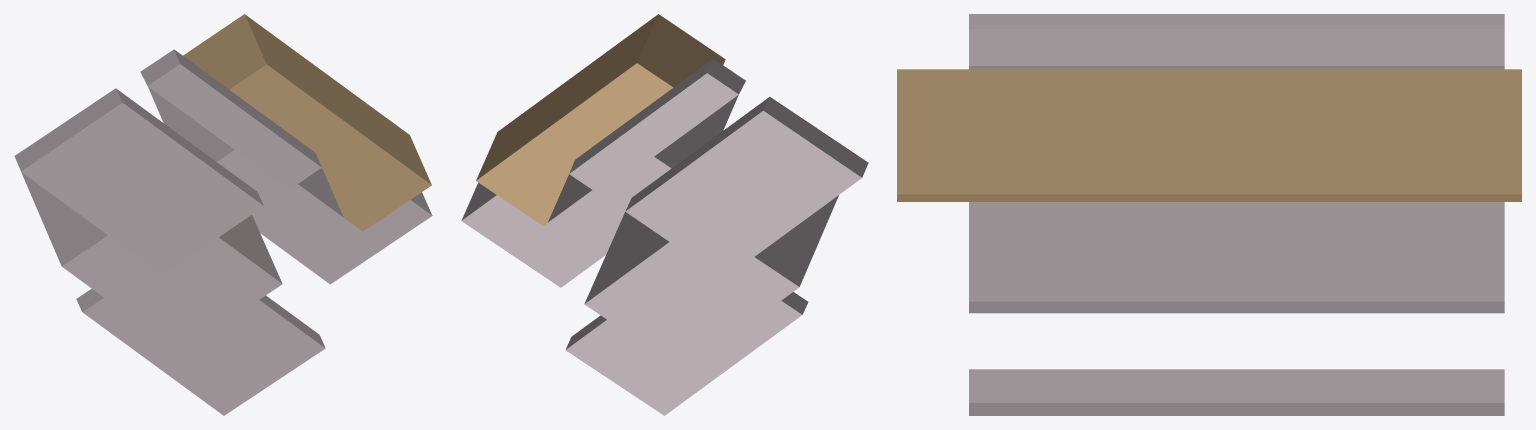
The picture shows the model from 3 angles, left to right: view 1: azimuth 30°, elevation 25°; view 2: azimuth 150°, elevation 25°; view 3: azimuth 270°, elevation 25°; orthographic projection. The views are drawn at different scales.
Parts seen in each view (by area): view 1: 0_2_2_3_0_0_0_3_0_1; view 2: 0_2_2_3_0_0_0_3_0_1; view 3: 0_2_2_3_0_0_0_3_0_1.
Boxes of the visible parts, x1,y1,x2,y2 form: 0_2_2_3_0_0_0_3_0_1: (14, 14, 432, 415); 0_2_2_3_0_0_0_3_0_1: (461, 14, 868, 415); 0_2_2_3_0_0_0_3_0_1: (897, 14, 1521, 415).
Bounding box in the file's own units: 20.27 × 17.81 × 21.
